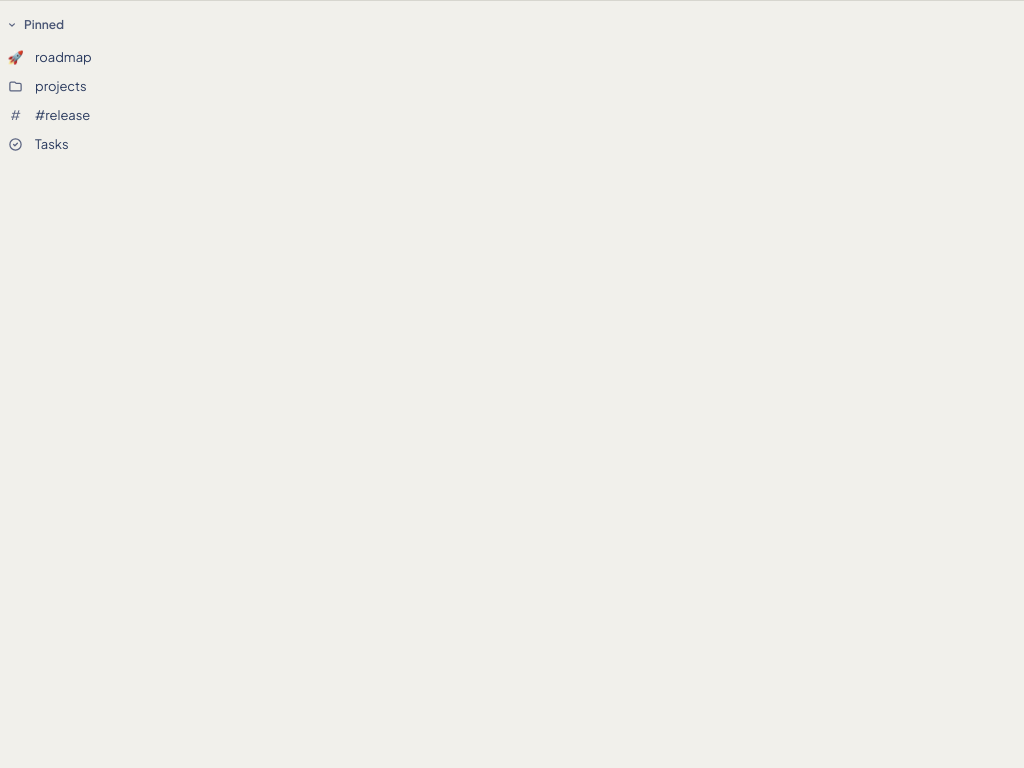
Test case: SidebarPinned › opens the emoji picker from a click on the icon
Click the button named "Change icon of roadmap" at (14, 57), box [0, 47, 29, 67]
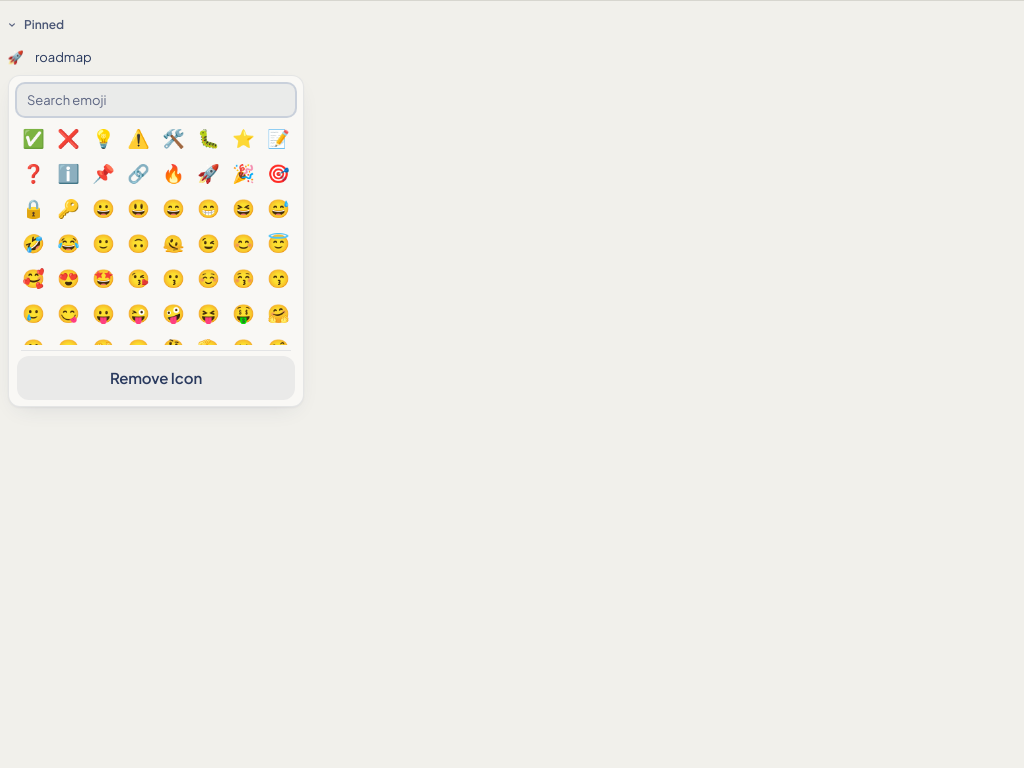
Expected: the dialog named "Pin icon" is shown, [8, 75, 304, 407]
